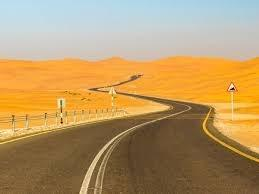road: (0, 74, 259, 193)
